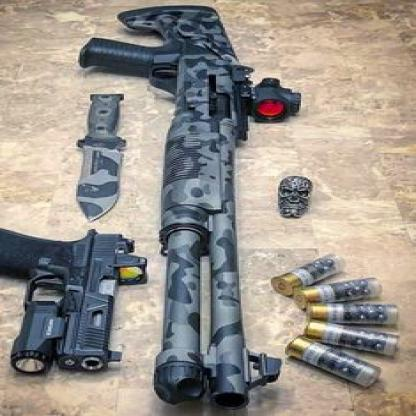Gun: (77, 3, 284, 415)
Knife: (77, 92, 129, 224)
Pistol: (0, 227, 152, 377)
